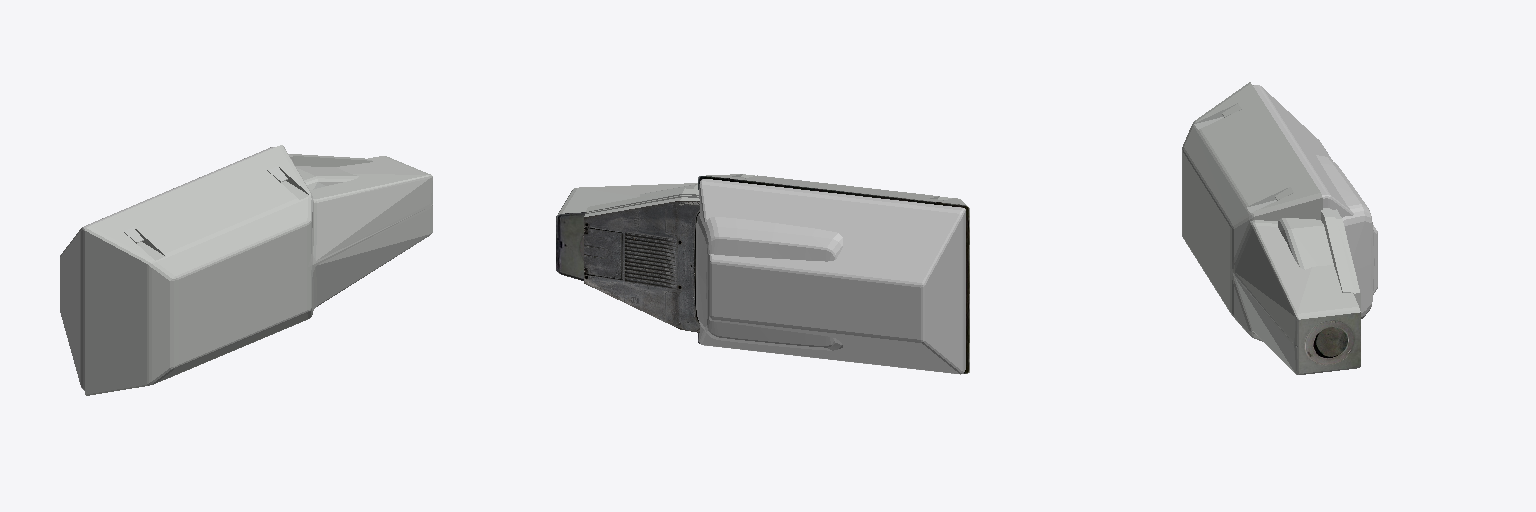
3 views of the same model, side by side, from view 1: azimuth 30°, elevation 25°; view 2: azimuth 150°, elevation 25°; view 3: azimuth 270°, elevation 25° (orthographic).
Visible parts, largest first — view 1: Cube.002_Cube.004, Cube.001_Cube.003, BezierCurve.002_BezierCurve.001; view 2: Cube.001_Cube.003, BezierCurve.002_BezierCurve.001, BezierCurve.004_BezierCurve.002, Cube.002_Cube.004; view 3: Cube.002_Cube.004, BezierCurve.002_BezierCurve.001, BezierCurve.004_BezierCurve.002, Cube.001_Cube.003.
Part boxes in pixels (left/top/right/bottom): Cube.002_Cube.004: left=85, top=145, right=432, bottom=395; Cube.001_Cube.003: left=60, top=147, right=274, bottom=390; BezierCurve.002_BezierCurve.001: left=289, top=154, right=372, bottom=189; Cube.001_Cube.003: left=699, top=179, right=965, bottom=374; BezierCurve.002_BezierCurve.001: left=584, top=184, right=699, bottom=332; BezierCurve.004_BezierCurve.002: left=696, top=212, right=842, bottom=350; Cube.002_Cube.004: left=556, top=174, right=969, bottom=373; Cube.002_Cube.004: left=1182, top=82, right=1360, bottom=374; BezierCurve.002_BezierCurve.001: left=1278, top=208, right=1360, bottom=310; BezierCurve.004_BezierCurve.002: left=1316, top=155, right=1374, bottom=318; Cube.001_Cube.003: left=1253, top=85, right=1377, bottom=294.
Bounding box in the file's own units: 0.8517 × 0.3699 × 0.3873.
6 materials, 3 textured.